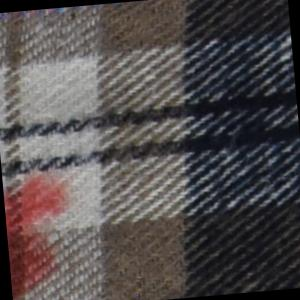Stain: (2, 165, 84, 300)
